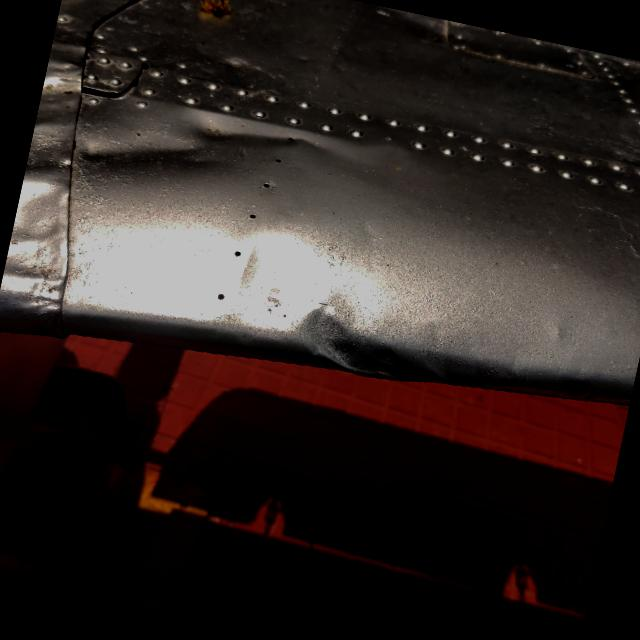dent: (57, 62, 341, 246), (298, 287, 446, 410)
